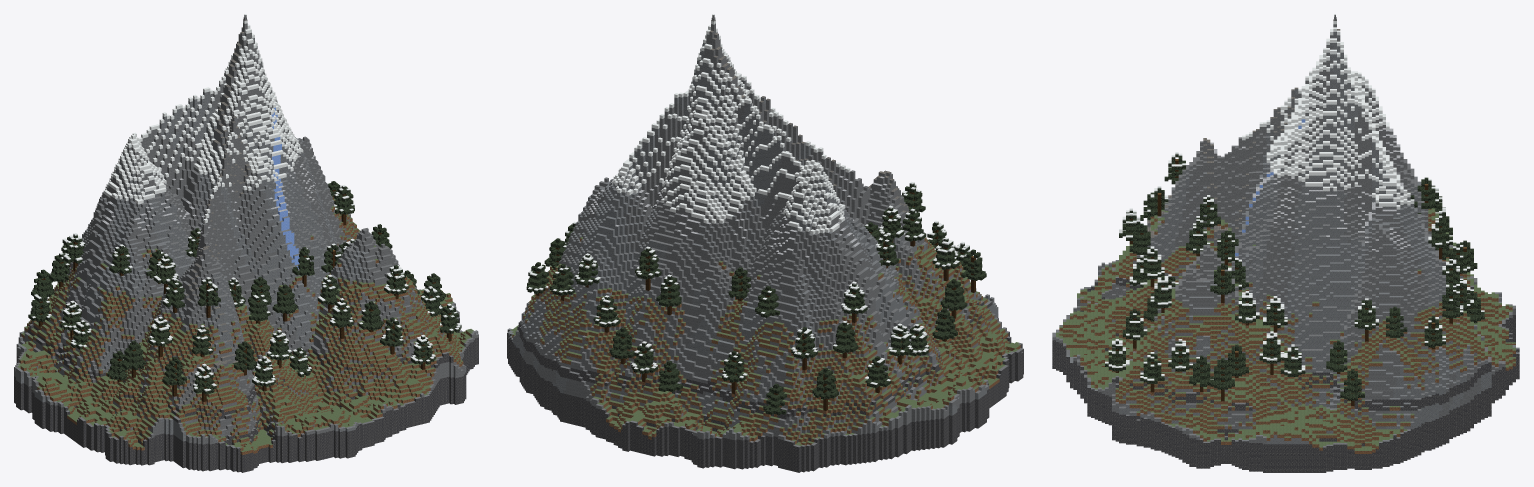
Rendered from shandian.glb.
3 views of the same model, side by side, from view 1: azimuth 30°, elevation 25°; view 2: azimuth 150°, elevation 25°; view 3: azimuth 270°, elevation 25° (orthographic). The views are drawn at different scales.
Parts seen in each view (by area): view 1: 01 Mountain / Stone, 01 Mountain / Dirt, 01 Mountain / Andesite, 01 Mountain / Grass, 02 Alpine spruce / Spruce needles, 01 Mountain / Deep rock, 01 Mountain / Snow, 02 Alpine spruce / Snow, 02 Alpine spruce / Spruce bark, 01 Mountain / Glacier, 01 Mountain / Pale granite, 01 Mountain / Worn trail; view 2: 01 Mountain / Stone, 01 Mountain / Andesite, 01 Mountain / Dirt, 01 Mountain / Deep rock, 02 Alpine spruce / Spruce needles, 01 Mountain / Grass, 01 Mountain / Snow, 02 Alpine spruce / Snow, 02 Alpine spruce / Spruce bark, 01 Mountain / Pale granite; view 3: 01 Mountain / Stone, 01 Mountain / Andesite, 01 Mountain / Dirt, 01 Mountain / Grass, 02 Alpine spruce / Spruce needles, 01 Mountain / Deep rock, 01 Mountain / Snow, 02 Alpine spruce / Snow, 02 Alpine spruce / Spruce bark, 01 Mountain / Pale granite.
Part boxes in pixels (<box>): 01 Mountain / Stone: <box>14,23,478,444</box>; 01 Mountain / Dirt: <box>19,197,470,454</box>; 01 Mountain / Andesite: <box>16,38,478,448</box>; 01 Mountain / Grass: <box>17,197,473,451</box>; 02 Alpine spruce / Spruce needles: <box>28,181,461,394</box>; 01 Mountain / Deep rock: <box>14,315,478,472</box>; 01 Mountain / Snow: <box>103,20,303,223</box>; 02 Alpine spruce / Snow: <box>32,185,461,391</box>; 02 Alpine spruce / Spruce bark: <box>38,189,451,401</box>; 01 Mountain / Glacier: <box>271,107,299,268</box>; 01 Mountain / Pale granite: <box>102,131,317,260</box>; 01 Mountain / Worn trail: <box>176,34,247,406</box>; 01 Mountain / Stone: <box>508,23,1023,447</box>; 01 Mountain / Andesite: <box>507,34,1012,438</box>; 01 Mountain / Dirt: <box>512,237,1020,445</box>; 01 Mountain / Deep rock: <box>507,297,1023,472</box>; 02 Alpine spruce / Spruce needles: <box>526,183,986,415</box>; 01 Mountain / Grass: <box>511,237,1020,445</box>; 01 Mountain / Snow: <box>612,20,850,234</box>; 02 Alpine spruce / Snow: <box>528,181,970,384</box>; 02 Alpine spruce / Spruce bark: <box>536,192,975,410</box>; 01 Mountain / Pale granite: <box>589,176,895,257</box>; 01 Mountain / Stone: <box>1052,24,1515,447</box>; 01 Mountain / Andesite: <box>1052,32,1519,444</box>; 01 Mountain / Dirt: <box>1059,209,1515,453</box>; 01 Mountain / Grass: <box>1056,208,1515,450</box>; 02 Alpine spruce / Spruce needles: <box>1105,154,1484,400</box>; 01 Mountain / Deep rock: <box>1052,276,1519,472</box>; 01 Mountain / Snow: <box>1242,21,1414,209</box>; 02 Alpine spruce / Snow: <box>1105,152,1484,380</box>; 02 Alpine spruce / Spruce bark: <box>1115,160,1473,405</box>; 01 Mountain / Pale granite: <box>1210,128,1410,251</box>.
Bounding box in the file's own units: 143 × 115 × 133.
14 materials, 14 textured.
